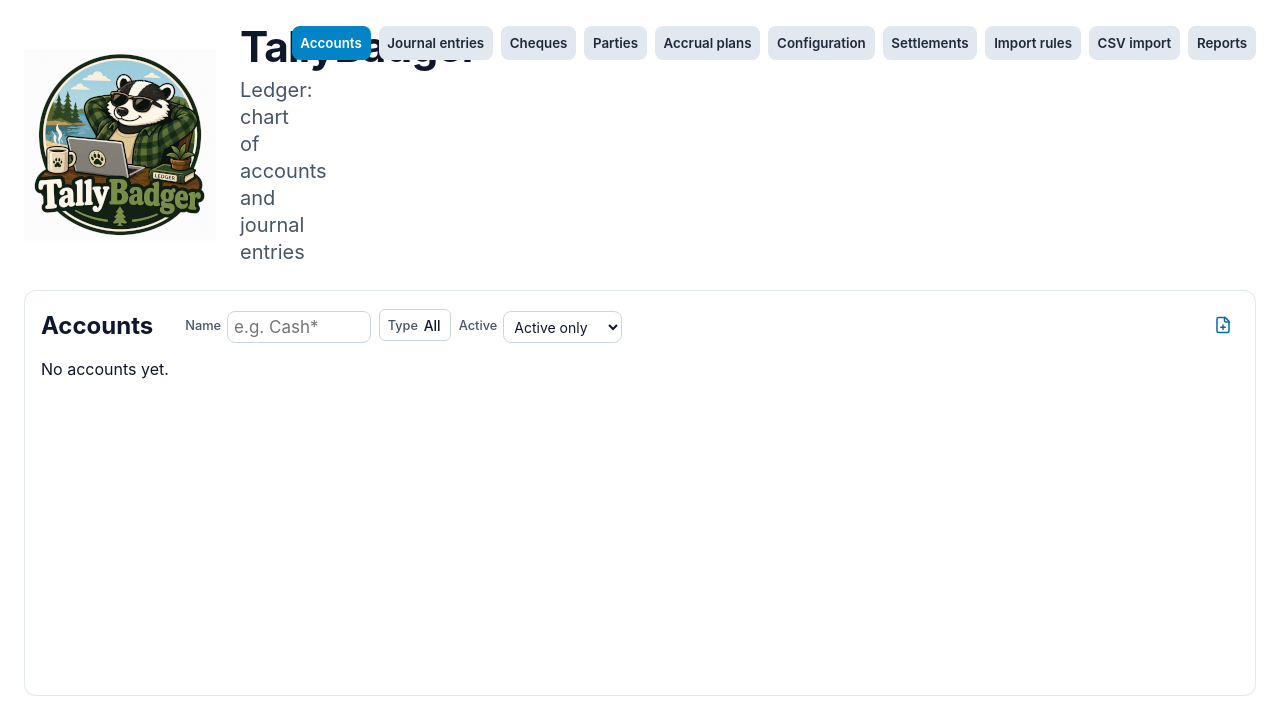
Test case: App › shows parties tab with loaded parties
Click the button "Parties".
click(615, 43)  # box [584,26,647,60]
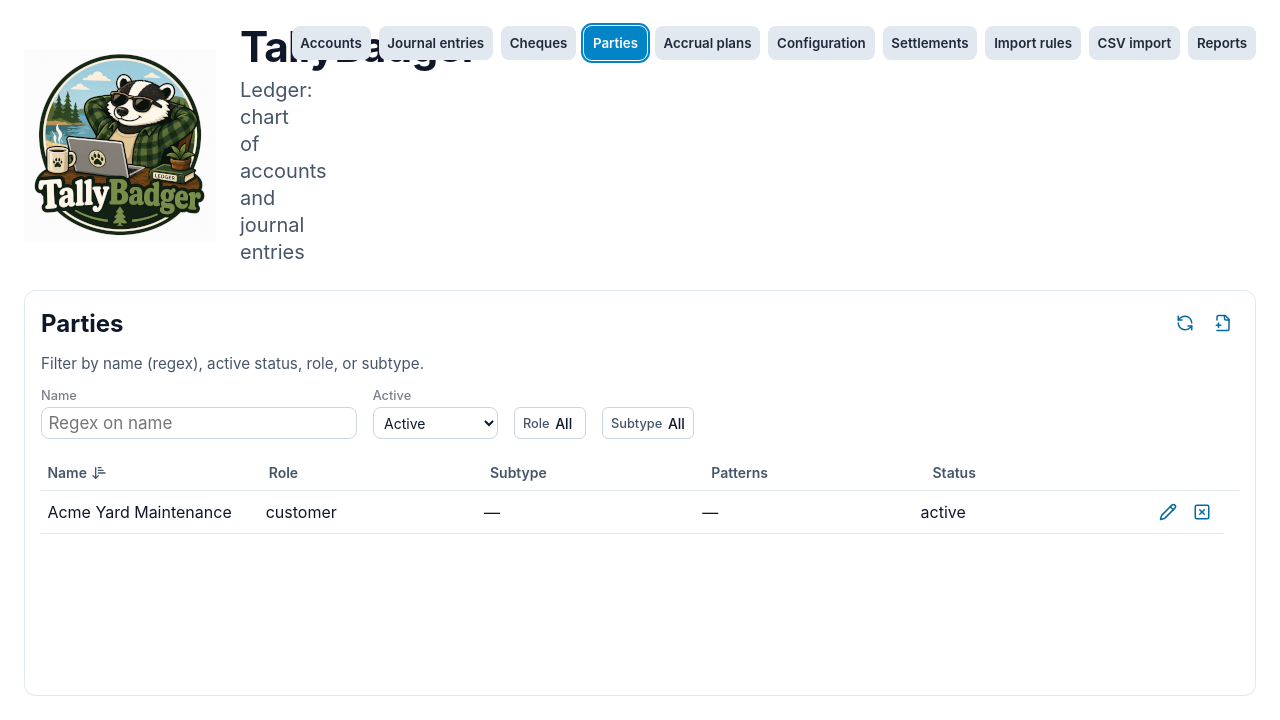
expect the heading "Parties" is shown: met, box [41,308,124,338]
expect the text "Acme Yard Maintenance" is shown: met, box [41,491,259,534]
